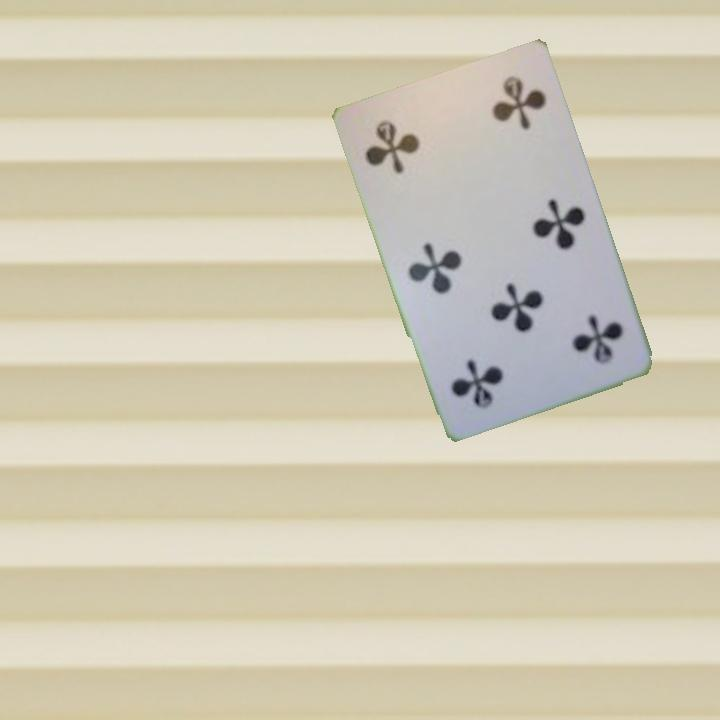c_7.png: (517, 281, 637, 394), (351, 89, 472, 201)
